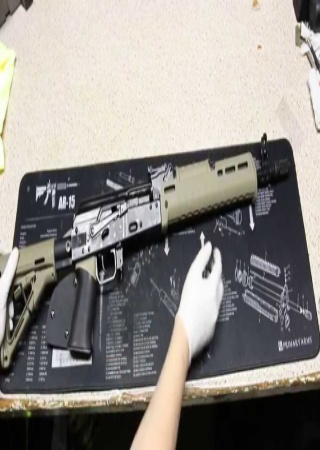rifle: (1, 130, 294, 374)
